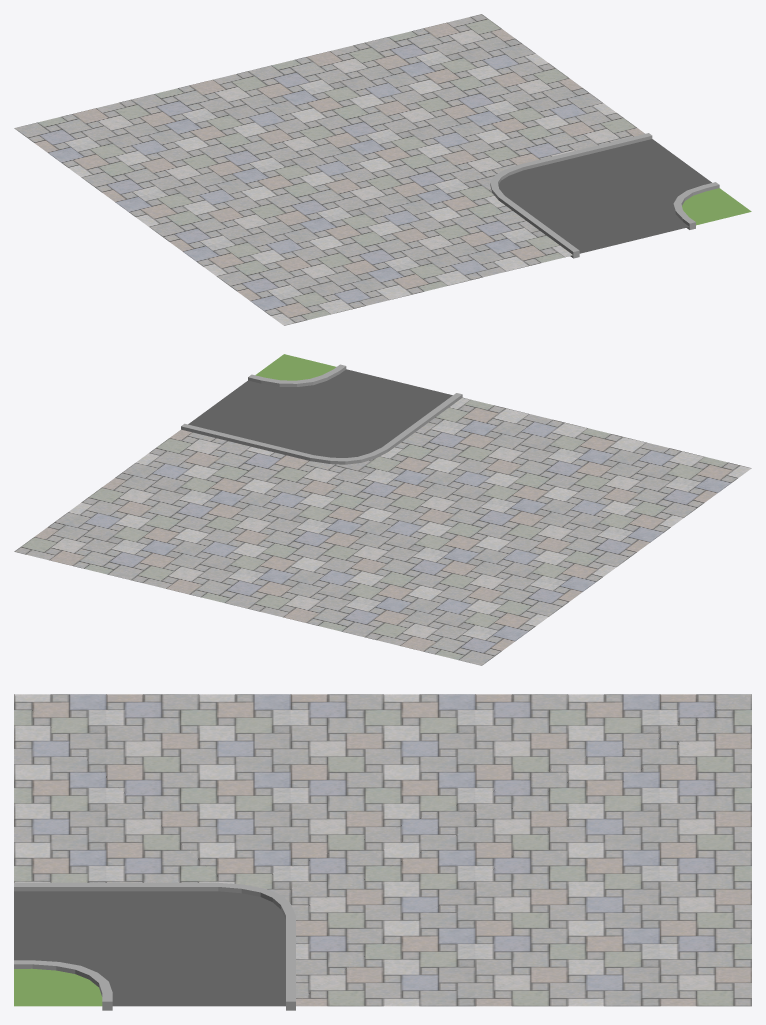
Rendered from Set_B_Tiles_06.glb.
The picture shows the model from 3 angles, top to bottom: view 1: azimuth 30°, elevation 25°; view 2: azimuth 150°, elevation 25°; view 3: azimuth 270°, elevation 25°; orthographic projection. The views are drawn at different scales.
Parts seen in each view (by area): view 1: Set_B_Tiles_06; view 2: Set_B_Tiles_06; view 3: Set_B_Tiles_06.
Boxes of the visible parts, x1,y1,x2,y2 form: Set_B_Tiles_06: [14, 14, 751, 325]; Set_B_Tiles_06: [14, 354, 751, 665]; Set_B_Tiles_06: [14, 694, 751, 1010].
Bounding box in the file's own units: 15 × 0.2 × 15.
4 materials, 2 textured.
